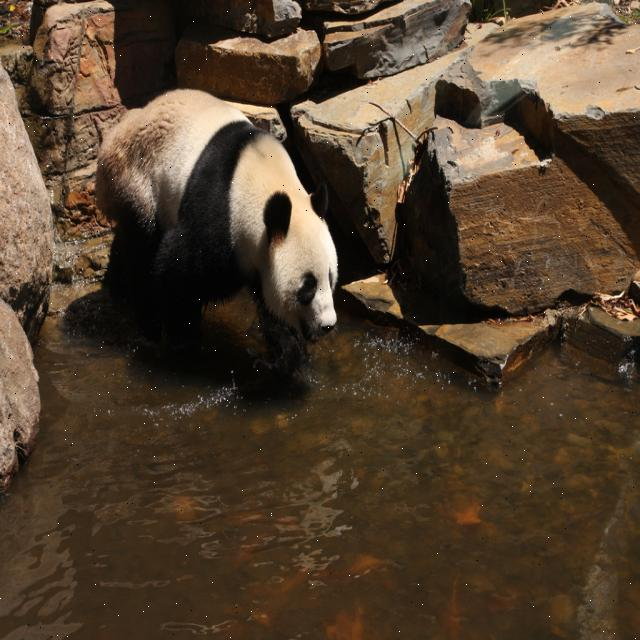panda: (91, 84, 342, 358)
